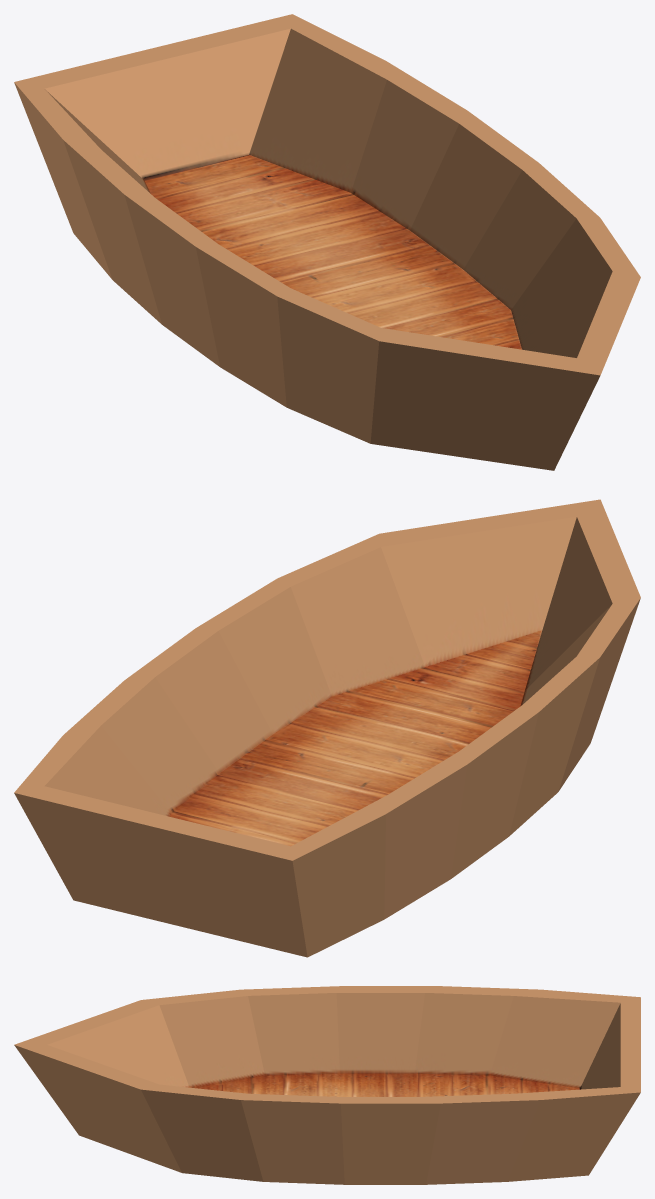
File: boat.fbx
3 views of the same model, one above another, from view 1: azimuth 30°, elevation 25°; view 2: azimuth 150°, elevation 25°; view 3: azimuth 270°, elevation 25° (orthographic). The views are drawn at different scales.
Visible parts, largest first — view 1: SPW_Medieval_Boat; view 2: SPW_Medieval_Boat; view 3: SPW_Medieval_Boat.
Boxes of the visible parts, x1,y1,x2,y2 form: SPW_Medieval_Boat: (14,14,640,470); SPW_Medieval_Boat: (14,499,640,957); SPW_Medieval_Boat: (14,986,640,1184).
Bounding box in the file's own units: 222 × 80 × 501.
Materials: 1 (1 with a texture image).
